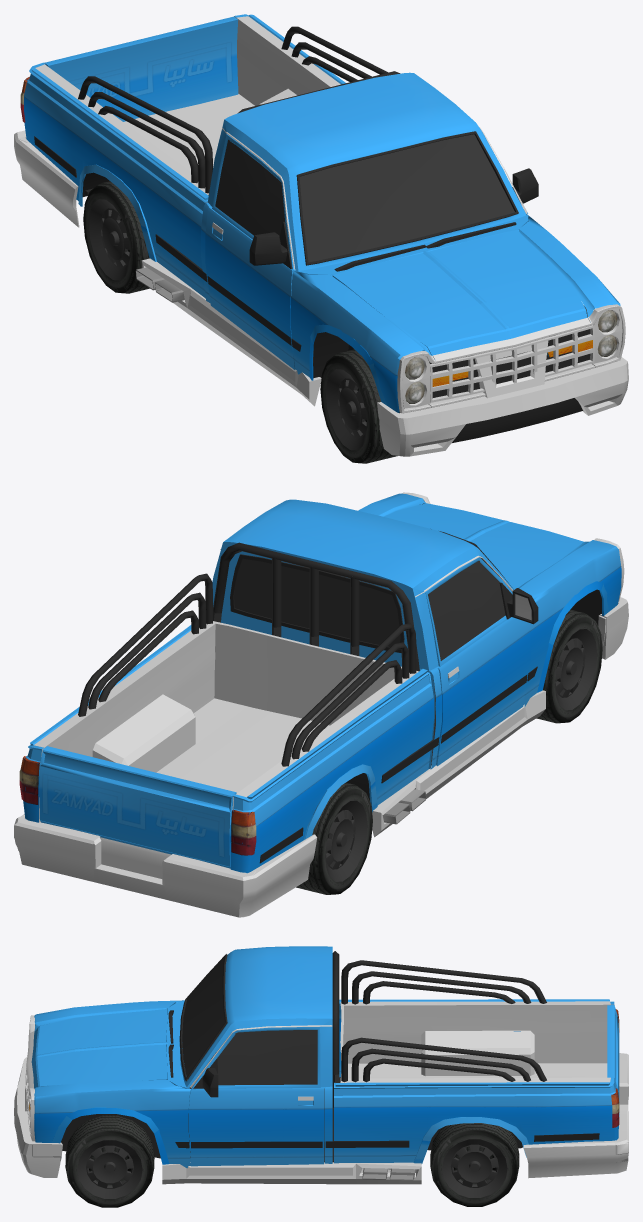
Rendered from zamyad.FBX.
3 renders of one model, top to bottom at view 1: azimuth 30°, elevation 25°; view 2: azimuth 150°, elevation 25°; view 3: azimuth 270°, elevation 25°, orthographic. The views are drawn at different scales.
Visible parts, largest first — view 1: body, glass, backcabin, Box003, plastic, tire_fr, backmetal, bumper, tire_rr, Box038, frontframe, separb1 (+5 smaller); view 2: body, backcabin, separb1, backmetal, glass, tire_rr, tire_fr, plastic, Box038, rearlamps, Box003, black (+1 smaller); view 3: body, backcabin, backmetal, glass, tire_fl, tire_rl, Box037, separb1, plastic, Box003, black, frontframe (+3 smaller).
Part boxes in pixels (x1=…): body: x1=24, y1=14, x2=620, y2=412; glass: x1=215, y1=134, x2=514, y2=262; backcabin: x1=35, y1=16, x2=527, y2=269; Box003: x1=377, y1=357, x2=628, y2=456; plastic: x1=34, y1=131, x2=590, y2=412; tire_fr: x1=320, y1=349, x2=397, y2=463; backmetal: x1=78, y1=26, x2=400, y2=194; bumper: x1=377, y1=308, x2=622, y2=417; tire_rr: x1=83, y1=181, x2=149, y2=293; Box038: x1=141, y1=258, x2=321, y2=406; frontframe: x1=397, y1=304, x2=625, y2=413; separb1: x1=14, y1=130, x2=79, y2=227; body: x1=23, y1=493, x2=621, y2=873; backcabin: x1=34, y1=549, x2=531, y2=822; separb1: x1=14, y1=814, x2=317, y2=917; backmetal: x1=78, y1=542, x2=419, y2=766; glass: x1=234, y1=558, x2=505, y2=660; tire_rr: x1=296, y1=782, x2=372, y2=894; tire_fr: x1=536, y1=609, x2=602, y2=723; plastic: x1=230, y1=503, x2=618, y2=863; Box038: x1=372, y1=690, x2=545, y2=837; rearlamps: x1=19, y1=756, x2=256, y2=855; Box003: x1=600, y1=597, x2=628, y2=659; black: x1=346, y1=589, x2=601, y2=800; body: x1=31, y1=946, x2=619, y2=1168; backcabin: x1=189, y1=962, x2=614, y2=1100; backmetal: x1=332, y1=951, x2=546, y2=1107; glass: x1=182, y1=958, x2=317, y2=1085; tire_fl: x1=65, y1=1115, x2=154, y2=1207; tire_rl: x1=430, y1=1123, x2=519, y2=1206; Box037: x1=162, y1=1162, x2=421, y2=1184; separb1: x1=523, y1=1053, x2=628, y2=1178; plastic: x1=168, y1=954, x2=599, y2=1148; Box003: x1=14, y1=1057, x2=61, y2=1177; black: x1=61, y1=1077, x2=522, y2=1162; frontframe: x1=26, y1=1015, x2=35, y2=1141.
Bounding box in the file's own units: 1953 × 1560 × 4691.
Materials: 9 (4 with a texture image).
